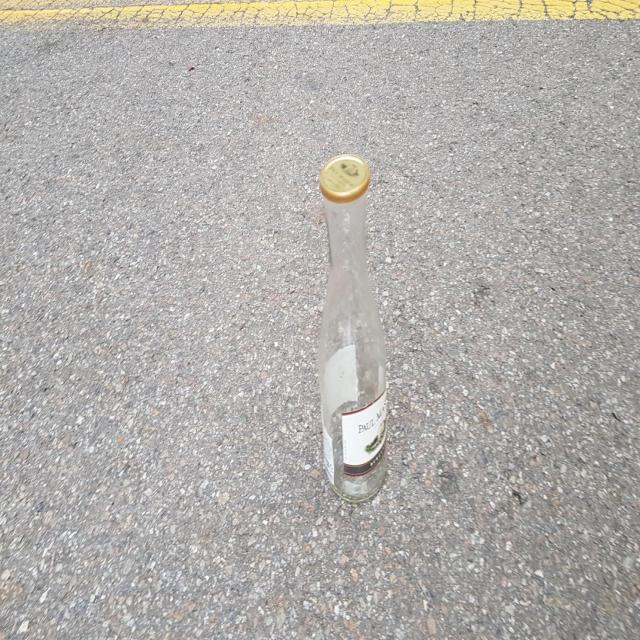glass: (318, 153, 388, 503)
